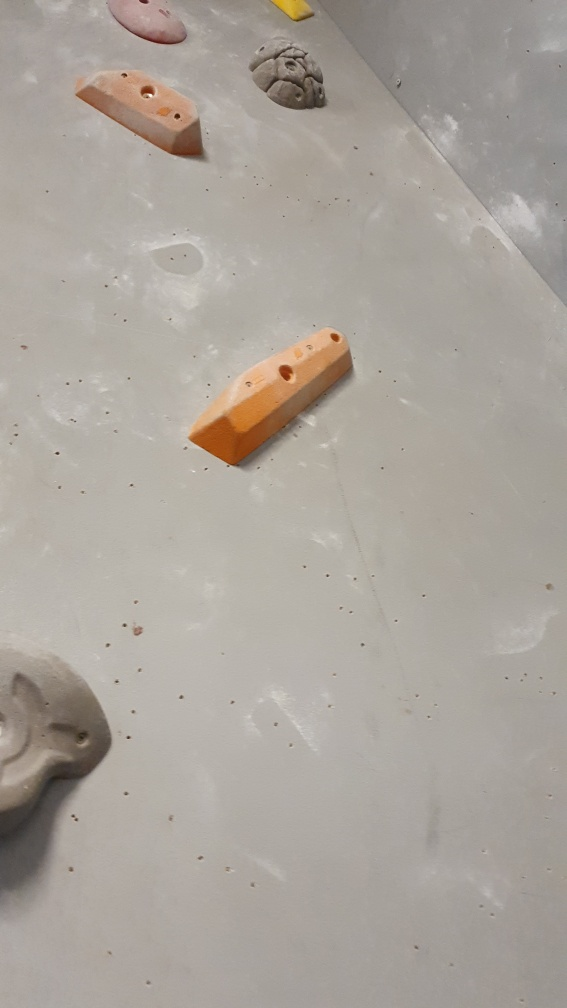Jug: (243, 29, 331, 110)
Pinch: (186, 321, 358, 469), (72, 64, 207, 165)
